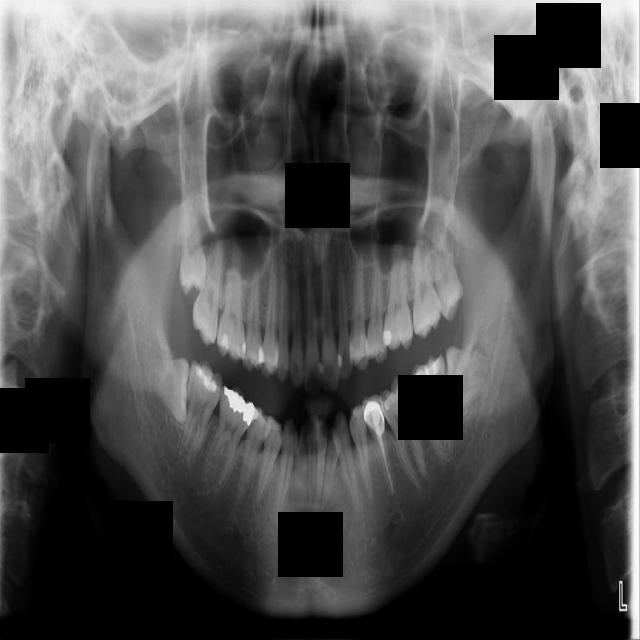3M ESPE Implant: (178, 186, 207, 296)
52: (399, 347, 457, 403), (369, 369, 427, 424), (208, 379, 264, 435), (177, 354, 234, 408), (375, 307, 419, 354), (214, 312, 247, 365), (245, 402, 275, 445), (359, 392, 386, 435), (243, 333, 264, 372)
73: (370, 426, 399, 496), (606, 586, 610, 592)
BioHorizons Implant: (412, 228, 443, 337)
BioLife Implant: (420, 220, 470, 322)
Biomet 3i Implant: (443, 345, 491, 421)
Blue Sky Bio Implant: (409, 353, 456, 465)
Caries: (189, 235, 227, 347)
Implant: (175, 357, 227, 468)
Keystone Dental Implant: (142, 352, 190, 424)
